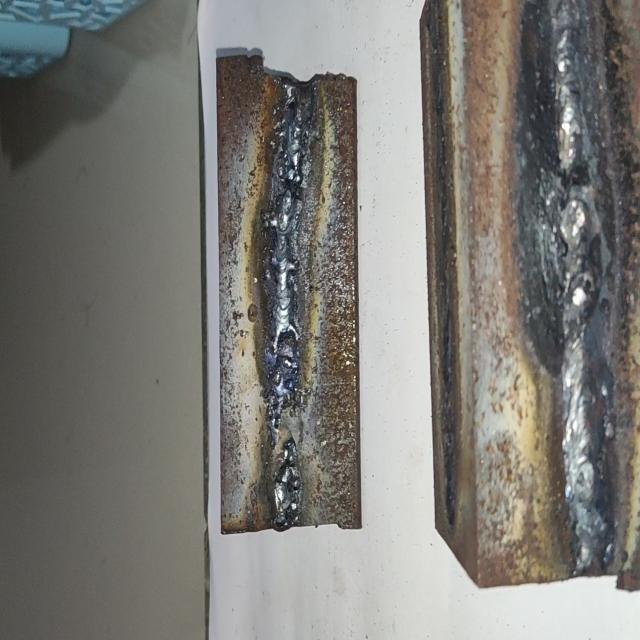Bad Weld: (553, 17, 617, 564), (274, 82, 304, 529)
Defect: (542, 154, 604, 248), (260, 356, 305, 478), (272, 152, 308, 210)
